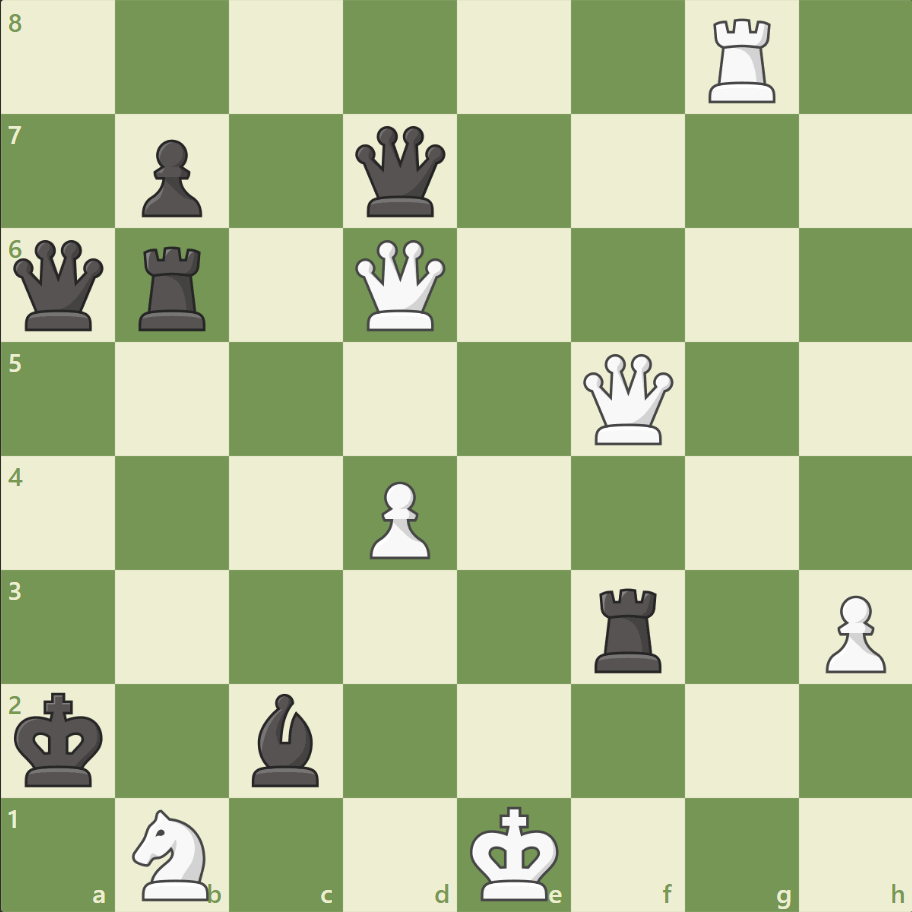K: (465, 798, 565, 906)
N: (124, 802, 222, 904)
P: (361, 473, 435, 564), (815, 586, 889, 677)
Q: (578, 349, 677, 449), (351, 236, 450, 335)
R: (700, 12, 783, 109)
b: (244, 687, 328, 790)
k: (11, 685, 111, 793)
p: (133, 132, 208, 223)
q: (351, 122, 450, 222), (10, 236, 109, 335)
r: (587, 579, 670, 676), (133, 239, 215, 336)
